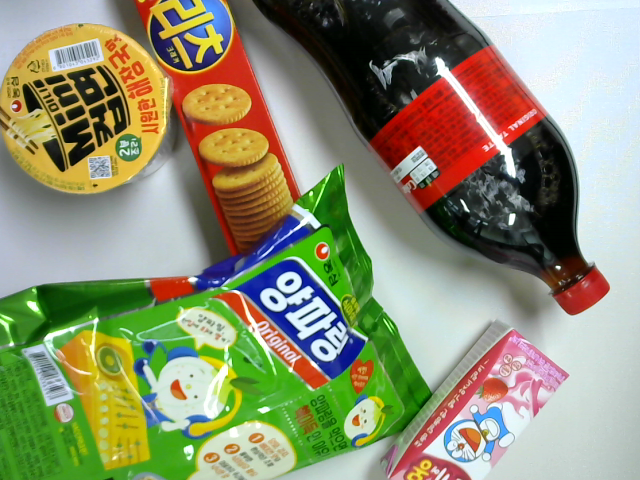Coca_Cola_1.5L: (252, 1, 621, 322)
Hejangmini: (1, 22, 179, 197)
Oninon_Ring: (1, 165, 440, 477)
Ritz_Cracker: (130, 1, 321, 288)
Strawberry_E_Mong: (378, 319, 575, 480)
